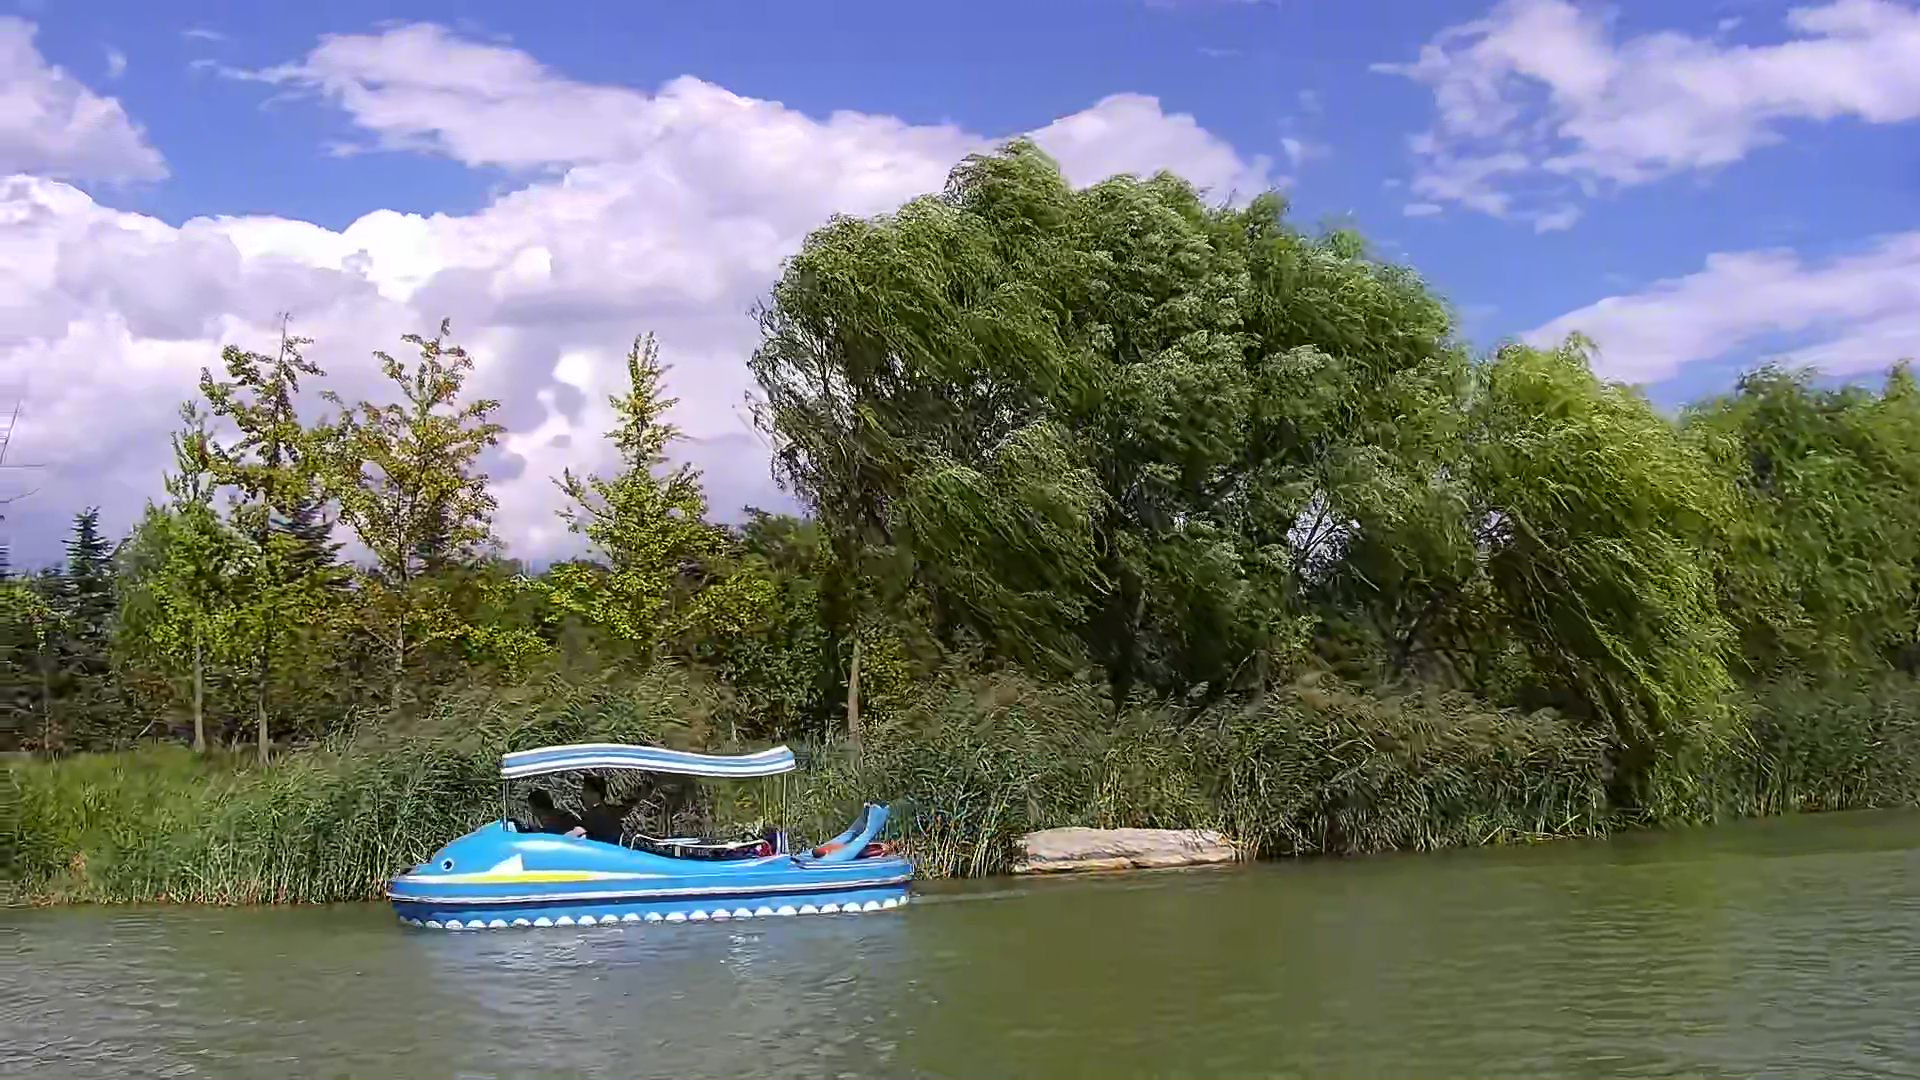boat: (383, 745, 914, 934)
person: (569, 772, 626, 854)
rock: (1015, 825, 1239, 880)
